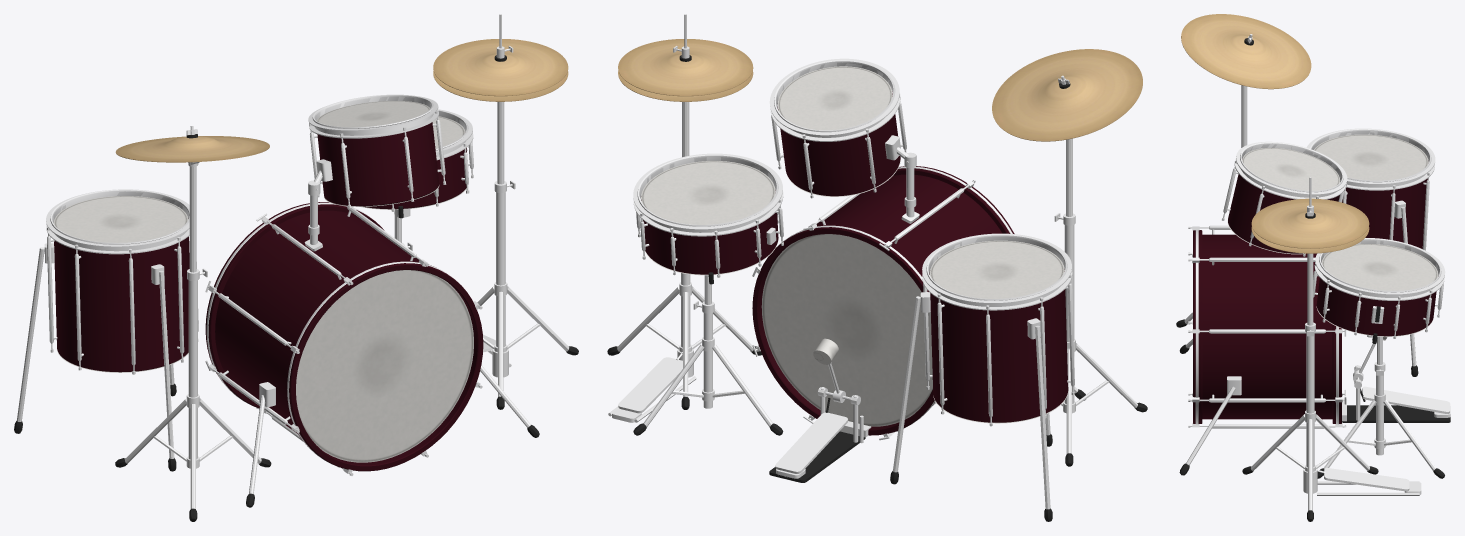
The model's file is drum-kit.glb.
3 views of the same model, side by side, from view 1: azimuth 30°, elevation 25°; view 2: azimuth 150°, elevation 25°; view 3: azimuth 270°, elevation 25° (orthographic). The views are drawn at different scales.
Visible parts, largest first — view 1: Kick_Shell, Tom2_Shell, Tom1_Shell, HiHat_Top, Tom2_Head, Crash_Cymbal, Snare_Shell, Crash_StandTube, Crash_Stand, HiHat_Stand, Tom1_Head, Tom2_StandTube (+3 smaller); view 2: Kick_Head, Tom2_Shell, Kick_Shell, Crash_Cymbal, Tom1_Shell, Snare_Shell, Snare_Head, HiHat_Top, Tom2_Head, Tom1_Head, HiHat_Stand, Kick_Pedal (+8 smaller); view 3: Kick_Shell, Crash_Cymbal, Snare_Shell, Tom2_Shell, HiHat_Top, Tom1_Shell, Snare_Head, HiHat_Stand, Tom2_Head, Tom1_Head, Kick_Pedal, HiHat_StandTube (+6 smaller).
Boxes of the visible parts, <box> form: Kick_Shell: <box>205,202,483,475</box>; Tom2_Shell: <box>44,189,198,374</box>; Tom1_Shell: <box>308,94,446,207</box>; HiHat_Top: <box>433,14,568,96</box>; Tom2_Head: <box>53,196,188,242</box>; Crash_Cymbal: <box>115,136,269,162</box>; Snare_Shell: <box>352,109,473,218</box>; Crash_StandTube: <box>187,166,207,459</box>; Crash_Stand: <box>115,394,271,521</box>; HiHat_Stand: <box>477,282,578,409</box>; Tom1_Head: <box>316,101,430,127</box>; Tom2_StandTube: <box>17,247,174,458</box>; Kick_Head: <box>761,234,932,426</box>; Tom2_Shell: <box>920,233,1074,426</box>; Kick_Shell: <box>752,163,1014,440</box>; Crash_Cymbal: <box>992,49,1142,141</box>; Tom1_Shell: <box>769,58,906,198</box>; Snare_Shell: <box>633,153,783,284</box>; Snare_Head: <box>641,161,775,224</box>; HiHat_Top: <box>618,14,753,96</box>; Tom2_Head: <box>930,240,1064,298</box>; Tom1_Head: <box>777,66,892,130</box>; HiHat_Stand: <box>607,282,762,422</box>; Kick_Pedal: <box>769,387,871,482</box>; Kick_Shell: <box>1188,225,1346,428</box>; Crash_Cymbal: <box>1181,14,1311,89</box>; Snare_Shell: <box>1313,238,1445,343</box>; Tom2_Shell: <box>1306,128,1435,250</box>; HiHat_Top: <box>1251,177,1369,248</box>; Tom1_Shell: <box>1222,141,1347,256</box>; Snare_Head: <box>1321,244,1438,290</box>; HiHat_Stand: <box>1242,410,1421,521</box>; Tom2_Head: <box>1314,134,1428,180</box>; Tom1_Head: <box>1242,148,1340,190</box>; Kick_Pedal: <box>1342,365,1450,422</box>; HiHat_StandTube: <box>1305,253,1315,467</box>.
Size of the model in its own units: 1.53 by 1.05 by 0.8298.
Materials: 5 (2 with a texture image).
